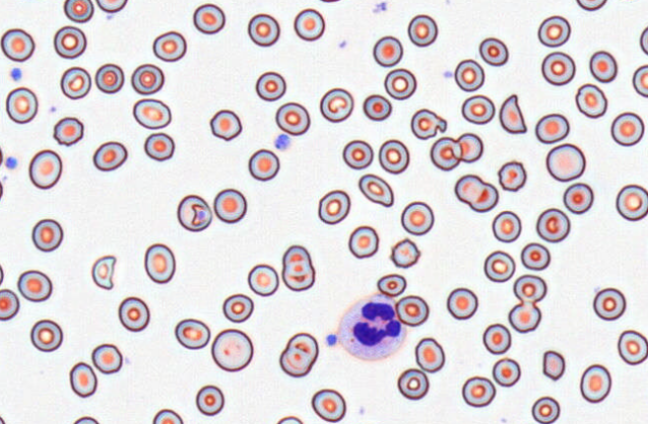GRAN: (339, 294, 405, 361)
PLT: (273, 132, 295, 153), (4, 155, 18, 172), (9, 66, 23, 82), (325, 332, 338, 347)
RBC: (210, 328, 253, 372), (279, 332, 318, 377), (454, 173, 498, 212), (281, 244, 315, 291), (545, 143, 585, 182), (28, 149, 62, 189), (176, 194, 212, 231), (579, 363, 611, 403), (144, 243, 175, 283), (310, 388, 346, 422), (5, 86, 38, 123), (132, 98, 171, 129), (610, 111, 644, 146), (358, 173, 393, 207), (536, 207, 570, 242), (0, 28, 35, 62), (213, 188, 247, 223), (319, 87, 353, 122), (275, 101, 310, 135), (615, 184, 647, 221), (400, 201, 434, 235), (541, 51, 575, 85), (317, 189, 350, 224), (17, 269, 52, 302), (118, 296, 150, 332), (592, 287, 626, 320), (394, 294, 429, 326), (575, 83, 607, 118), (174, 318, 210, 349), (378, 138, 409, 174), (617, 329, 648, 365), (30, 319, 63, 352), (53, 25, 86, 58), (247, 13, 280, 46), (429, 136, 461, 170), (461, 375, 495, 407), (31, 218, 63, 252), (152, 30, 186, 62), (414, 337, 445, 372), (92, 140, 127, 171), (508, 301, 541, 333), (446, 287, 478, 320), (247, 263, 279, 296), (537, 15, 570, 47), (131, 63, 164, 95), (293, 8, 325, 41), (535, 112, 569, 143), (483, 250, 515, 282), (397, 368, 429, 400), (60, 66, 91, 99), (348, 225, 379, 258), (209, 109, 242, 140), (248, 148, 279, 181), (383, 68, 416, 99), (192, 3, 225, 34), (461, 94, 495, 124), (69, 361, 97, 397), (562, 182, 593, 214), (372, 35, 403, 67), (454, 58, 484, 91), (407, 14, 437, 47), (91, 343, 122, 374), (491, 210, 521, 242), (513, 274, 546, 303), (255, 71, 286, 101), (390, 237, 420, 268), (222, 293, 253, 323), (52, 116, 83, 146), (342, 139, 373, 169), (195, 384, 224, 416), (94, 63, 124, 93), (497, 160, 526, 191), (482, 323, 511, 354), (589, 50, 617, 82), (478, 37, 508, 66), (144, 132, 174, 161), (492, 357, 520, 387), (520, 242, 550, 270), (362, 93, 392, 121), (456, 132, 483, 162), (531, 396, 560, 423), (376, 273, 406, 297), (63, 0, 93, 22), (0, 288, 19, 320), (632, 64, 647, 97), (152, 408, 183, 423), (95, 0, 128, 13), (575, 0, 607, 11), (639, 25, 648, 55), (72, 415, 100, 424), (275, 415, 304, 423), (0, 262, 4, 286), (0, 178, 3, 205), (0, 142, 3, 168), (318, 0, 344, 3), (616, 0, 643, 2)
Schistocyte: (408, 107, 449, 141), (499, 93, 528, 134), (90, 255, 119, 291), (542, 350, 567, 383)
